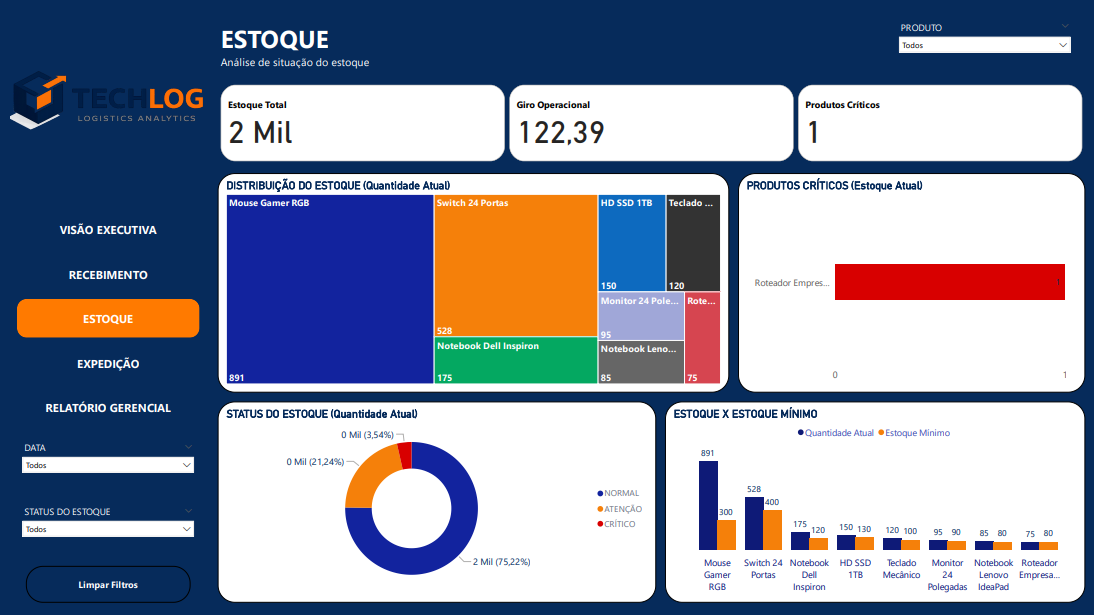

Layout of this report page (visuals, bound fields, positions):
{"tool":"powerbi","page":{"name":"ESTOQUE","canvas":[1920,1080],"ordinal":2},"visuals":[{"type":"textbox","box":[384,32,720,96],"z":0},{"type":"cardVisual","fields":{"Data":["Medidas.Estoque Total","Medidas.Giro Operacional","Medidas.Produtos Críticos"]},"box":[384,144,1520,144],"z":1000},{"type":"treemap","title":"DISTRIBUIÇÃO DO ESTOQUE (Quantidade Atual)","fields":{"Group":["estoque_tratado.nome_produto"],"Values":["Medidas.Estoque Total"]},"box":[384,304,896,384],"z":2000},{"type":"barChart","title":"PRODUTOS CRÍTICOS (Estoque Atual)","fields":{"Y":["Medidas.Produtos Críticos"],"Category":["estoque_tratado.nome_produto"]},"box":[1296,304,608,384],"z":3000},{"type":"donutChart","title":"STATUS DO ESTOQUE (Quantidade Atual)","fields":{"Category":["estoque_tratado.status_estoque"],"Y":["Medidas.Estoque Total"]},"box":[384,704,768,352],"z":4000},{"type":"pageNavigator","box":[32,368,320,384],"z":5000},{"type":"image","box":[16,16,352,352],"z":6000},{"type":"slicer","fields":{"Values":["estoque_tratado.nome_produto"]},"box":[1568,32,320,96],"z":7000},{"type":"clusteredColumnChart","title":"ESTOQUE X ESTOQUE MÍNIMO","fields":{"Category":["estoque_tratado.nome_produto"],"Y":["Sum(estoque_tratado.quantidade_atual)","Sum(estoque_tratado.estoque_minimo)"]},"box":[1168,704,736,352],"z":8000},{"type":"slicer","fields":{"Values":["estoque_tratado.status_estoque"]},"box":[32,880,320,96],"z":9000},{"type":"actionButton","box":[48,992,288,64],"z":10000},{"type":"slicer","fields":{"Values":["estoque_tratado.ultima_movimentacao"]},"box":[32,768,320,96],"z":11000}]}

Visuals, with their boxes in screenshot pixels (x1, y1, x2, y2), scaled from the page's 1920x1080 canvas onto the 1094x615 screenshot:
textbox: detection(219, 18, 629, 73)
cardVisual - Medidas.Estoque Total x Medidas.Giro Operacional: detection(219, 82, 1085, 164)
"DISTRIBUIÇÃO DO ESTOQUE (Quantidade Atual)" treemap: detection(219, 173, 729, 392)
"PRODUTOS CRÍTICOS (Estoque Atual)" barChart: detection(738, 173, 1085, 392)
"STATUS DO ESTOQUE (Quantidade Atual)" donutChart: detection(219, 401, 656, 601)
pageNavigator: detection(18, 210, 201, 428)
image: detection(9, 9, 210, 210)
slicer - estoque_tratado.nome_produto: detection(893, 18, 1076, 73)
"ESTOQUE X ESTOQUE MÍNIMO" clusteredColumnChart: detection(666, 401, 1085, 601)
slicer - estoque_tratado.status_estoque: detection(18, 501, 201, 556)
actionButton: detection(27, 565, 191, 601)
slicer - estoque_tratado.ultima_movimentacao: detection(18, 437, 201, 492)
